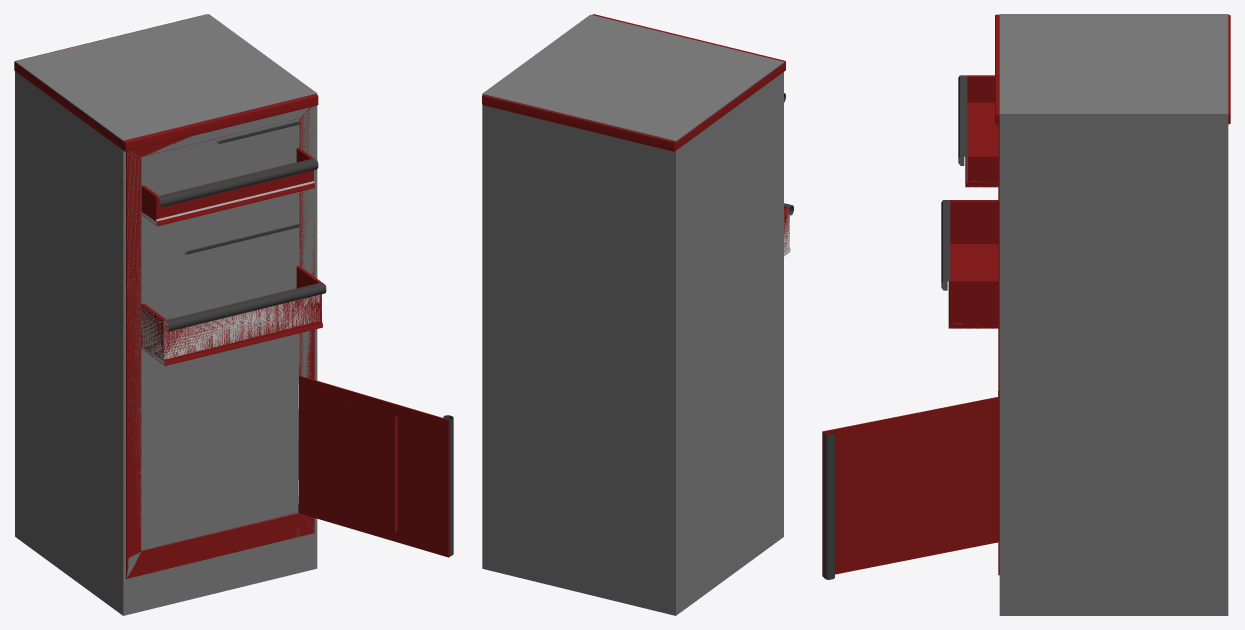
Rendered from s_big_toolbox_02.dae.
The picture shows the model from 3 angles, left to right: view 1: azimuth 30°, elevation 25°; view 2: azimuth 150°, elevation 25°; view 3: azimuth 270°, elevation 25°; orthographic projection. The views are drawn at different scales.
Parts seen in each view (by area): view 1: Colmesh_s_big_toolbox_02-1, s_big_toolbox_02_L200, s_big_toolbox_02_L25, s_big_toolbox_02_L50; view 2: Colmesh_s_big_toolbox_02-1, s_big_toolbox_02_L200; view 3: Colmesh_s_big_toolbox_02-1, s_big_toolbox_02_L200.
Boxes of the visible parts, box(x1,y1,x2,y2) form: Colmesh_s_big_toolbox_02-1: box(15, 14, 317, 615); s_big_toolbox_02_L200: box(14, 14, 453, 578); s_big_toolbox_02_L25: box(126, 106, 314, 577); s_big_toolbox_02_L50: box(141, 181, 321, 365); Colmesh_s_big_toolbox_02-1: box(482, 14, 783, 615); s_big_toolbox_02_L200: box(482, 14, 793, 251); Colmesh_s_big_toolbox_02-1: box(999, 14, 1228, 615); s_big_toolbox_02_L200: box(822, 14, 1230, 579).
Bounding box in the file's own units: 0.5553 × 0.748 × 1.02.
